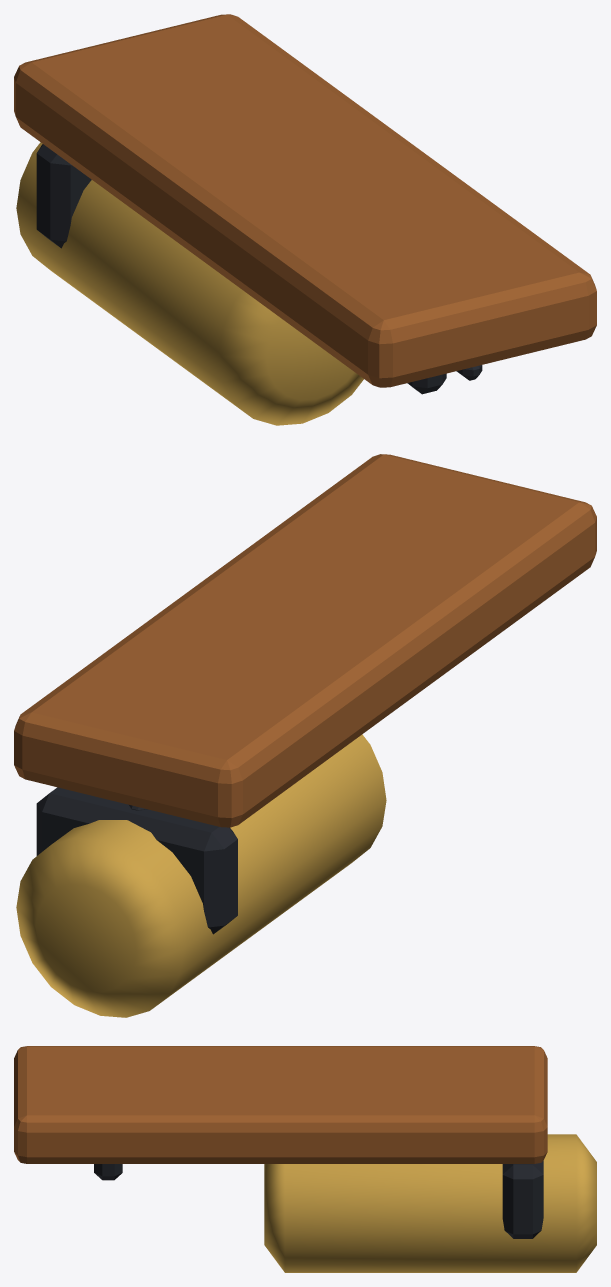
Rendered from mallet_37d60d3c-4dde-4cdf-9847-81186b6afd8a_1786705098540.glb.
3 renders of one model, top to bottom at view 1: azimuth 30°, elevation 25°; view 2: azimuth 150°, elevation 25°; view 3: azimuth 270°, elevation 25°, orthographic. The views are drawn at different scales.
Parts seen in each view (by area): view 1: bar, resonator, hardware; view 2: bar, resonator, hardware; view 3: bar, resonator, hardware.
Part boxes in pixels (left/top/right/bottom): bar: left=14, top=14, right=596, bottom=387; resonator: left=16, top=142, right=363, bottom=425; hardware: left=36, top=144, right=482, bottom=394; bar: left=14, top=454, right=596, bottom=827; resonator: left=16, top=734, right=386, bottom=1017; hardware: left=36, top=787, right=237, bottom=934; bar: left=14, top=1046, right=547, bottom=1163; resonator: left=264, top=1134, right=596, bottom=1272; hardware: left=94, top=1160, right=543, bottom=1238.
Size of the model in its own units: 42.11 by 45.77 by 130.
